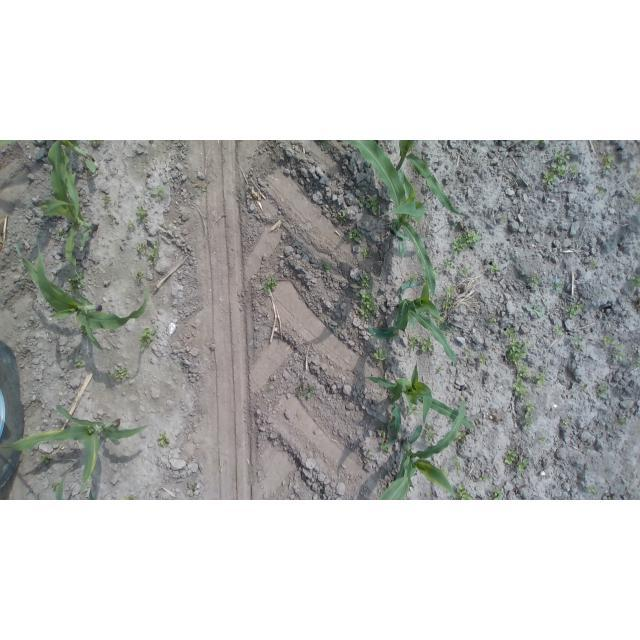Maize: (16, 237, 150, 354), (346, 140, 437, 296), (1, 404, 151, 498), (365, 362, 474, 450), (378, 400, 467, 501), (39, 142, 98, 285), (368, 277, 456, 363), (395, 141, 461, 216), (57, 140, 97, 221), (56, 468, 73, 500), (1, 141, 18, 148), (89, 486, 94, 500), (323, 141, 329, 150)
Weeds: (542, 148, 580, 185), (451, 230, 483, 255), (504, 337, 530, 364), (358, 288, 379, 318), (512, 362, 529, 398), (140, 327, 159, 353), (522, 400, 536, 431), (455, 481, 475, 500), (442, 284, 455, 310), (148, 239, 161, 265), (503, 445, 517, 468), (567, 301, 584, 318), (530, 370, 547, 387), (365, 195, 381, 213), (109, 368, 132, 380), (525, 303, 543, 318), (263, 277, 278, 295), (151, 187, 166, 202), (373, 348, 387, 363), (552, 323, 566, 338), (452, 453, 462, 474), (408, 335, 421, 351), (422, 336, 435, 352), (358, 272, 371, 288), (295, 379, 306, 397), (159, 430, 170, 447), (422, 428, 435, 442), (517, 457, 530, 471), (348, 230, 362, 243), (134, 242, 148, 255), (600, 334, 615, 346), (598, 382, 609, 398), (570, 335, 583, 348), (136, 205, 148, 219), (530, 273, 541, 288), (492, 488, 504, 501), (503, 327, 517, 338), (136, 268, 145, 285), (604, 154, 613, 170), (478, 351, 488, 365), (444, 258, 454, 272), (489, 262, 500, 274), (584, 485, 596, 496), (67, 277, 77, 290), (380, 439, 389, 453), (631, 273, 640, 287), (361, 248, 371, 260), (479, 473, 492, 482), (555, 282, 565, 293), (615, 350, 626, 360), (589, 257, 598, 269), (631, 356, 640, 368), (612, 342, 624, 351), (460, 267, 470, 277), (407, 406, 417, 416), (456, 431, 466, 441), (102, 195, 112, 205), (323, 261, 332, 272), (41, 454, 50, 465), (306, 386, 314, 398), (464, 346, 472, 358), (338, 210, 346, 222), (579, 380, 588, 390), (434, 267, 440, 282), (126, 219, 135, 229), (199, 182, 207, 193), (530, 140, 544, 146), (440, 466, 449, 475), (76, 358, 85, 367), (190, 484, 196, 497), (57, 228, 64, 239), (538, 436, 547, 444), (89, 140, 101, 146), (563, 416, 570, 426), (356, 196, 366, 203), (124, 494, 135, 500), (487, 318, 498, 323), (380, 428, 386, 437), (408, 274, 417, 280), (52, 482, 58, 491), (598, 188, 605, 195), (427, 422, 434, 429), (142, 220, 149, 227), (80, 326, 86, 334), (634, 197, 640, 204), (619, 418, 625, 425), (635, 169, 640, 177), (435, 298, 441, 304), (452, 223, 457, 230), (437, 366, 443, 371), (555, 496, 562, 500), (39, 201, 44, 206), (180, 362, 185, 367), (197, 193, 203, 197), (501, 216, 506, 220), (608, 496, 612, 500), (367, 453, 370, 458), (60, 398, 63, 401)
